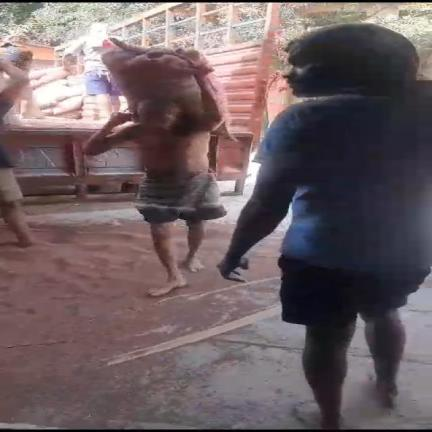Zone-Counting: (84, 42, 225, 296)
